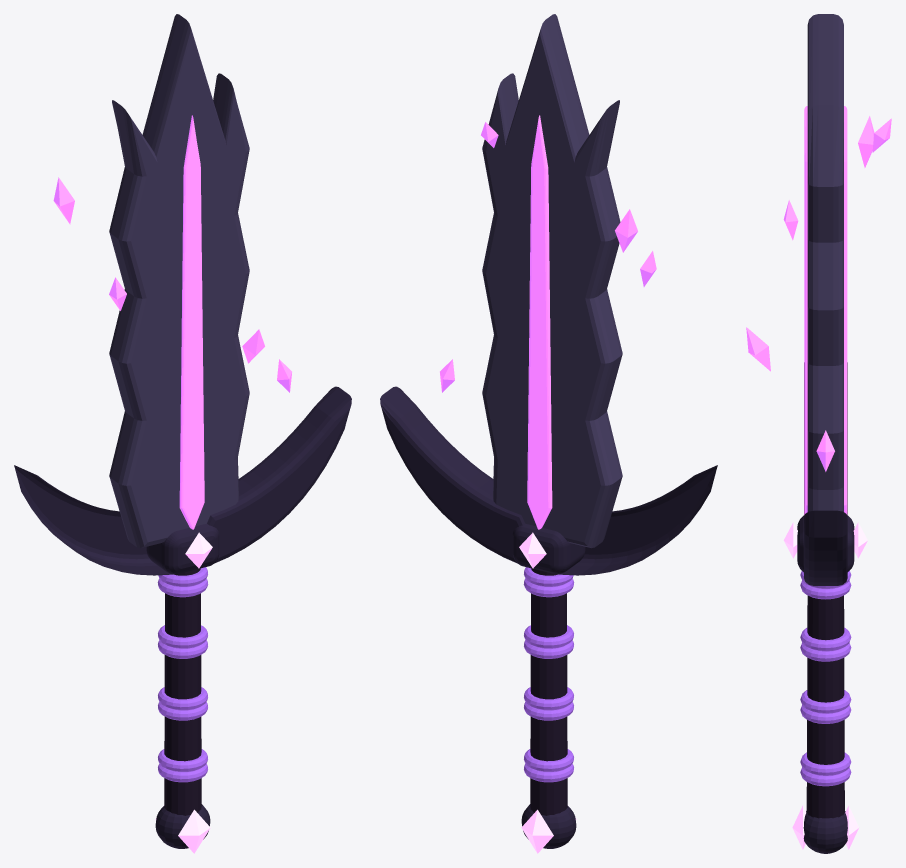
Rendered from uniq2h.glb.
3 views of the same model, side by side, from view 1: azimuth 30°, elevation 25°; view 2: azimuth 150°, elevation 25°; view 3: azimuth 270°, elevation 25° (orthographic).
Parts seen in each view (by area): view 1: blade, guard, core, grip, wrap, gem; view 2: blade, guard, core, grip, wrap, gem; view 3: blade, grip, guard, core, wrap, gem.
Boxes of the visible parts, x1,y1,x2,y2 form: blade: [109, 14, 249, 548]; guard: [14, 386, 351, 848]; core: [53, 115, 291, 529]; grip: [164, 568, 201, 815]; wrap: [157, 567, 208, 782]; gem: [155, 532, 212, 853]; blade: [482, 14, 622, 548]; guard: [380, 386, 717, 848]; core: [440, 115, 656, 529]; grip: [530, 568, 567, 815]; wrap: [523, 567, 574, 782]; gem: [519, 532, 576, 853]; blade: [807, 14, 843, 511]; grip: [806, 595, 844, 818]; guard: [797, 362, 854, 853]; core: [746, 106, 891, 514]; wrap: [800, 570, 851, 786]; gem: [783, 522, 867, 849].
Bounding box in the file's own units: 1.97 × 4.84 × 0.7623.
